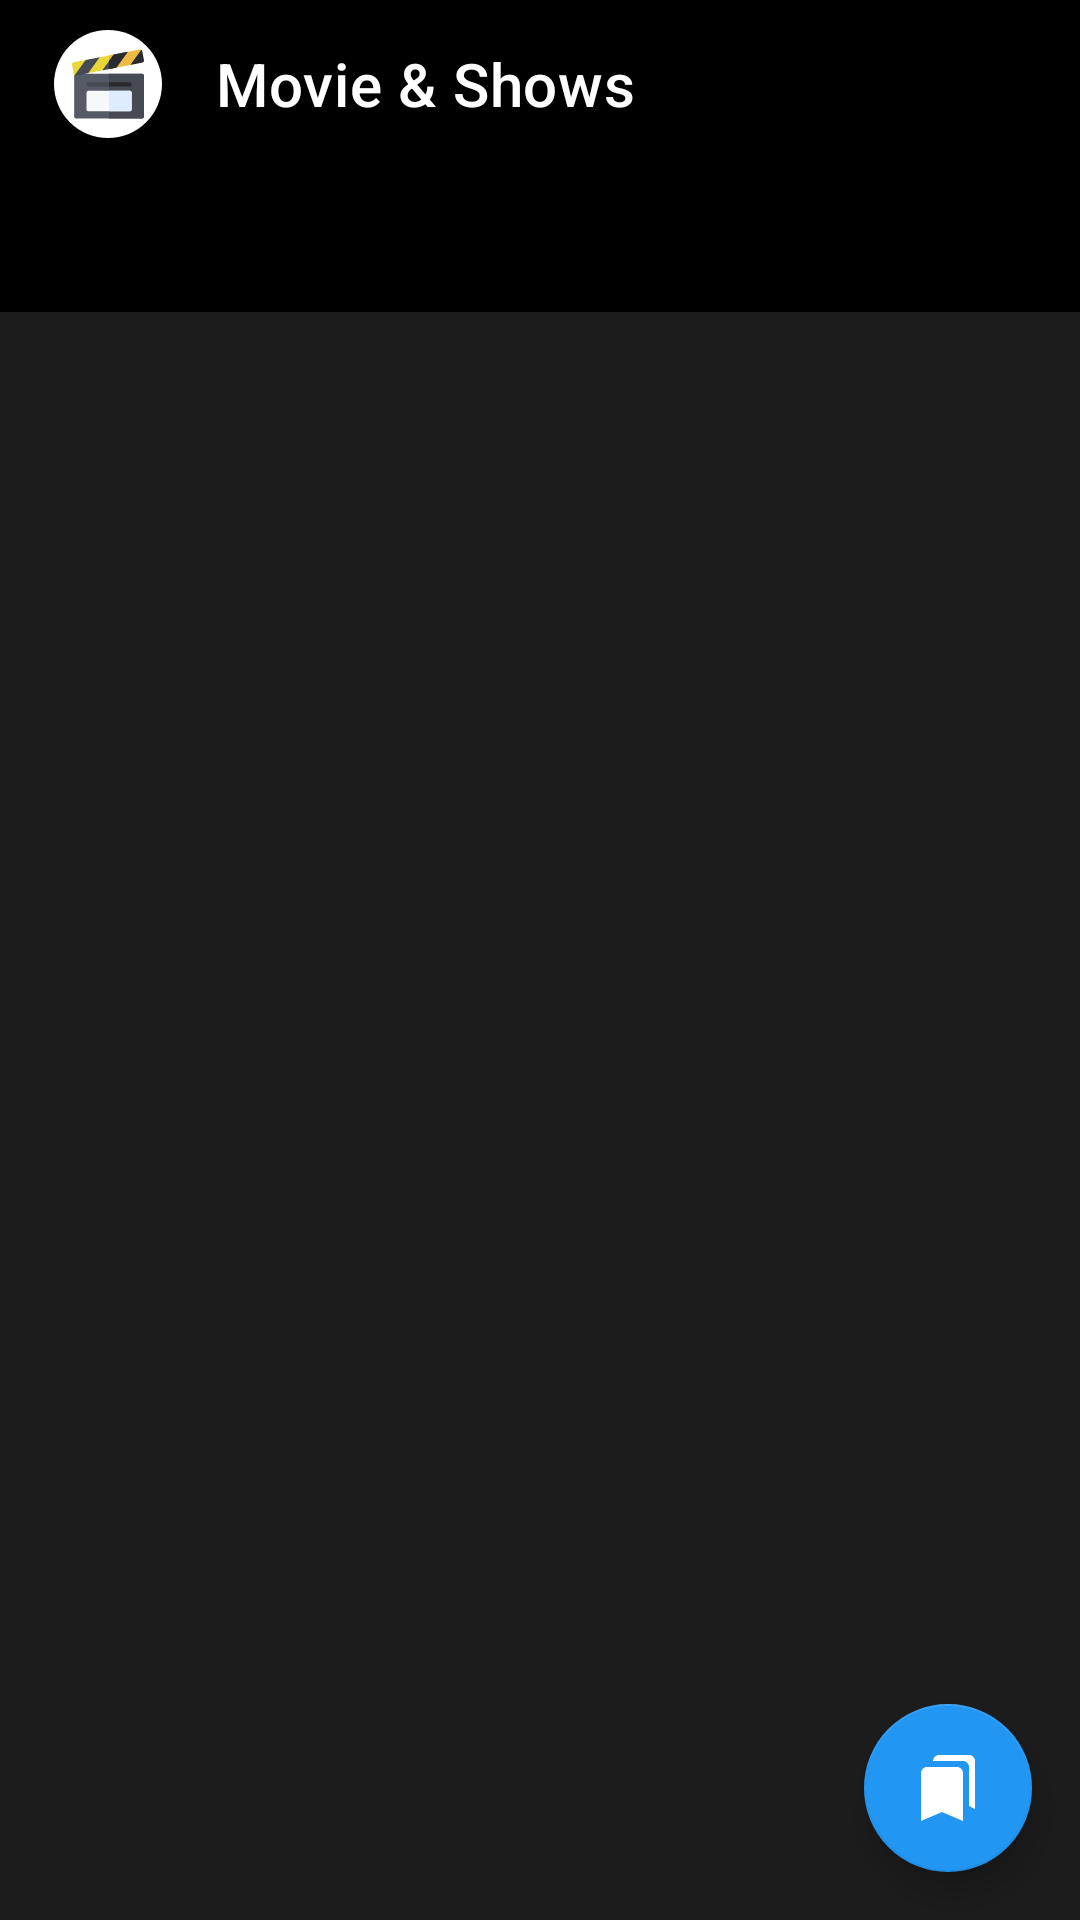

Where icons sit on this 1080x1920 app screen, as (x1, y1, x2, y2):
bookmark menu: (864, 1704, 1032, 1872)
